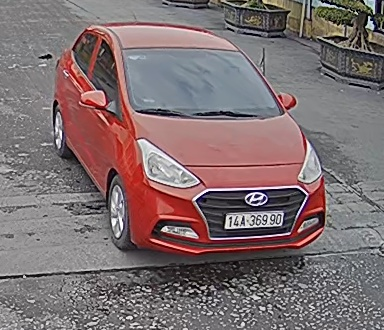vehicle plate: (218, 212, 285, 229)
